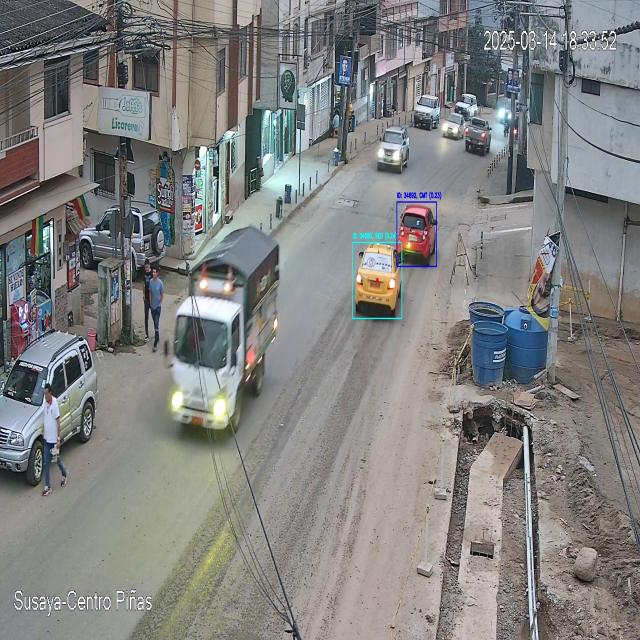TRUCK: (168, 228, 280, 436)
